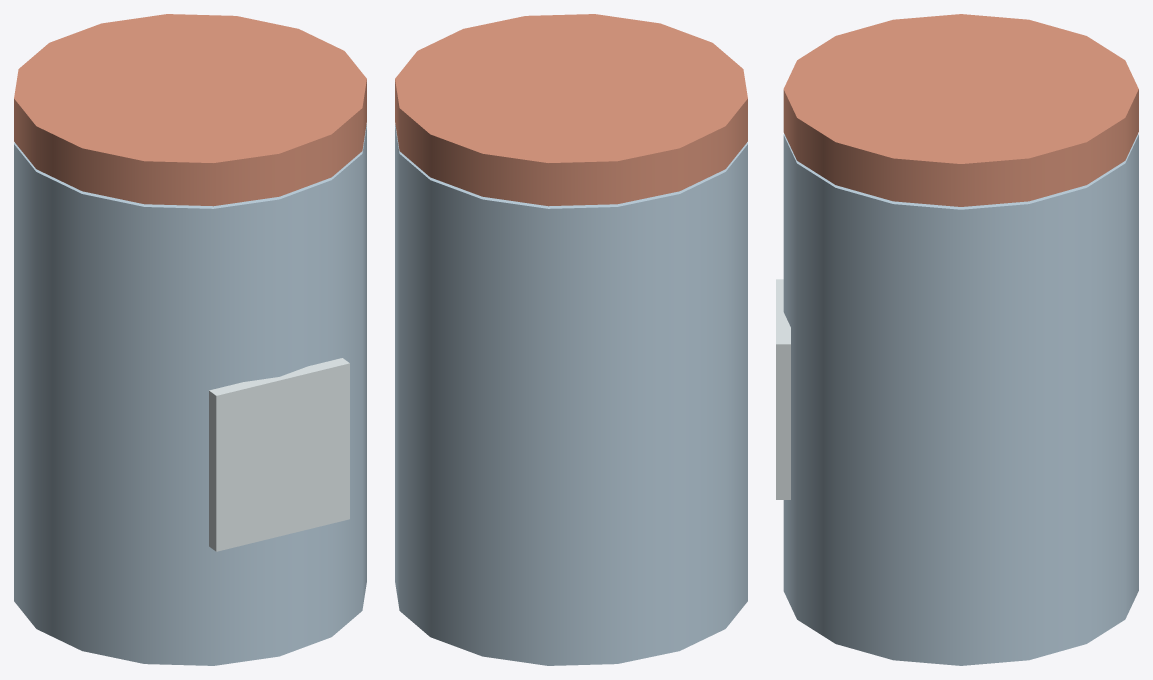
Rendered from milk.glb.
The picture shows the model from 3 angles, left to right: view 1: azimuth 30°, elevation 25°; view 2: azimuth 150°, elevation 25°; view 3: azimuth 270°, elevation 25°; orthographic projection.
Visible parts, largest first — view 1: milk; view 2: milk; view 3: milk.
Boxes of the visible parts, x1=… form: milk: x1=14, y1=14, x2=366, y2=665; milk: x1=395, y1=14, x2=747, y2=665; milk: x1=776, y1=14, x2=1138, y2=665.
Size of the model in its own units: 0.6 by 0.935 by 0.6125.
